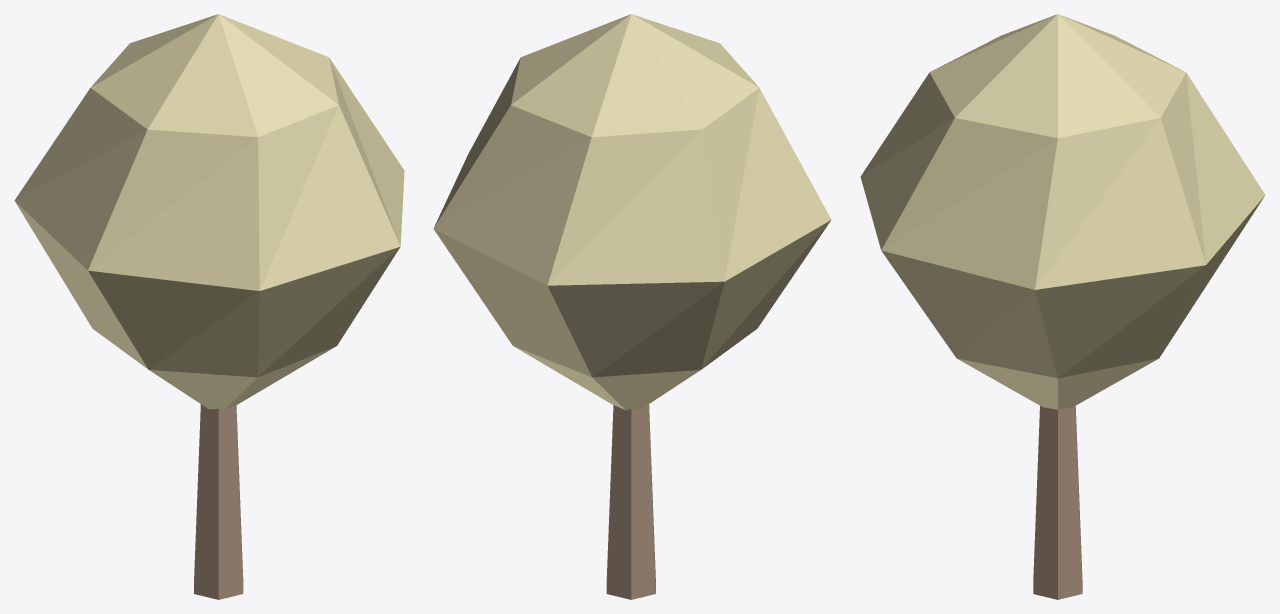
The model's file is tree-autumn.glb.
3 views of the same model, side by side, from view 1: azimuth 30°, elevation 25°; view 2: azimuth 150°, elevation 25°; view 3: azimuth 270°, elevation 25° (orthographic).
Visible parts, largest first — view 1: tree-autumn; view 2: tree-autumn; view 3: tree-autumn.
Part boxes in pixels (x1,y1,x2,y2): tree-autumn: (14, 14, 404, 599); tree-autumn: (433, 14, 831, 599); tree-autumn: (860, 14, 1265, 599).
Size of the model in its own units: 5.27 by 8.5 by 5.44.
